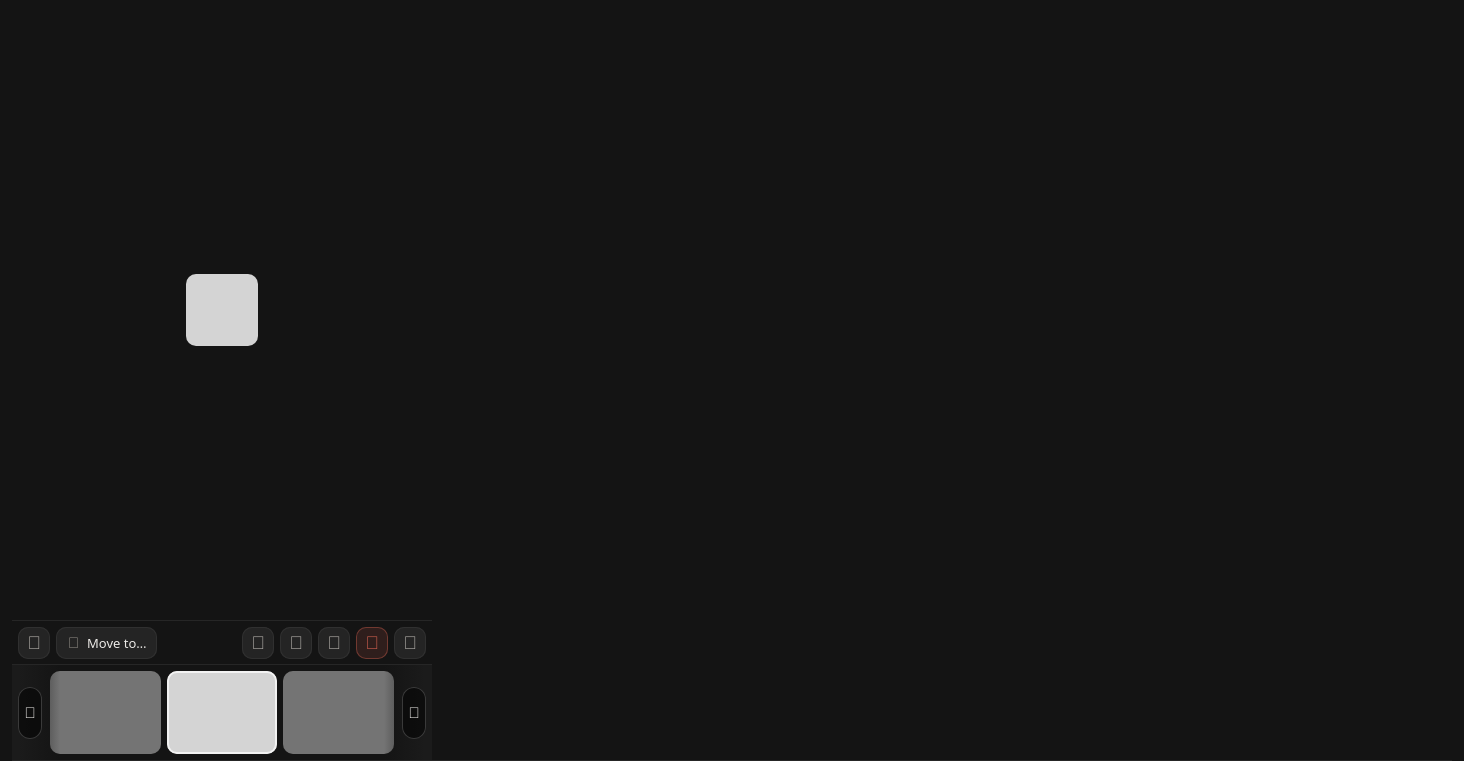
Test: Rename in the ⋯ opens the details with the name as a field, its stem selected
Step 1. Click the button named "More" → (410, 642), box [394, 626, 426, 658]
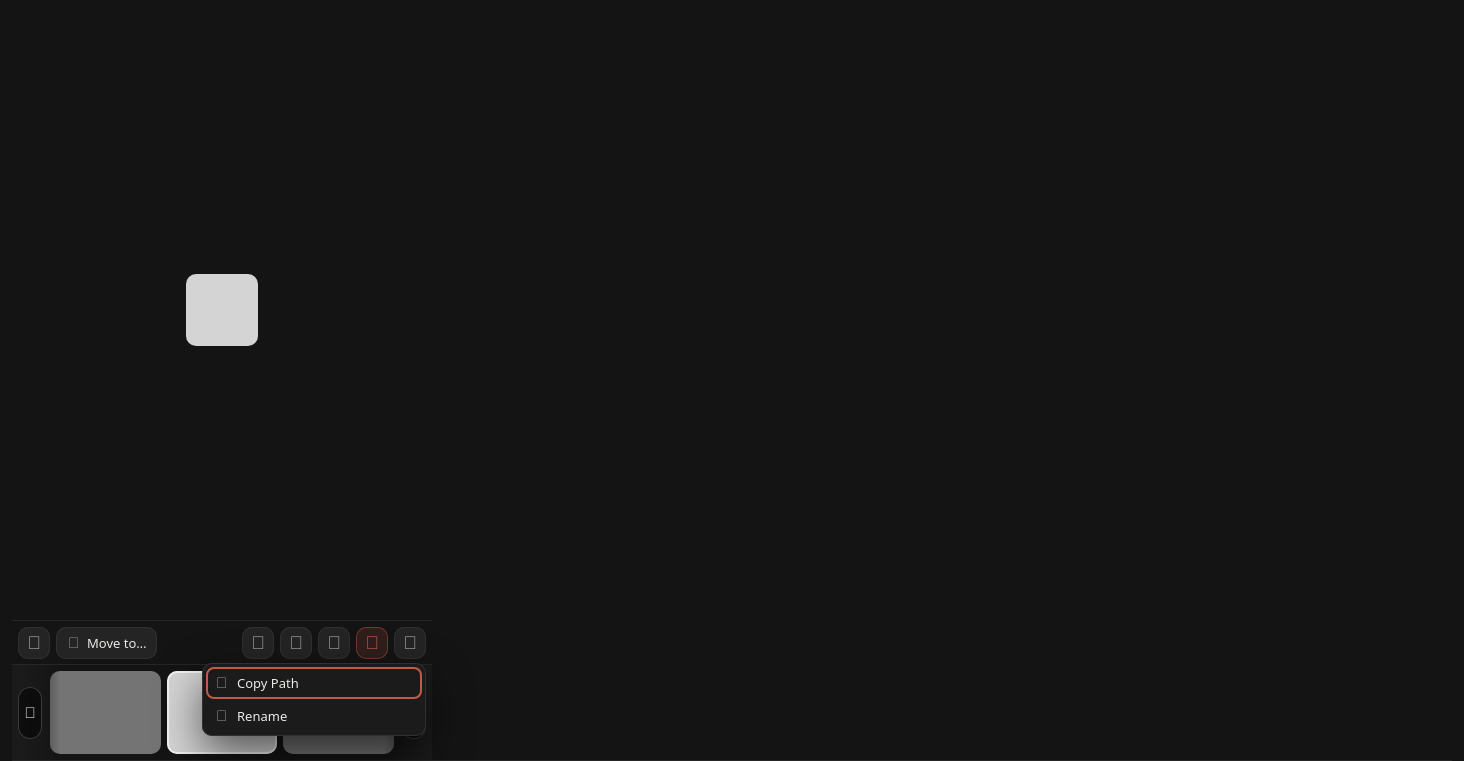
Step 2. Click the menu item " Rename" → (314, 716), box [206, 700, 422, 732]
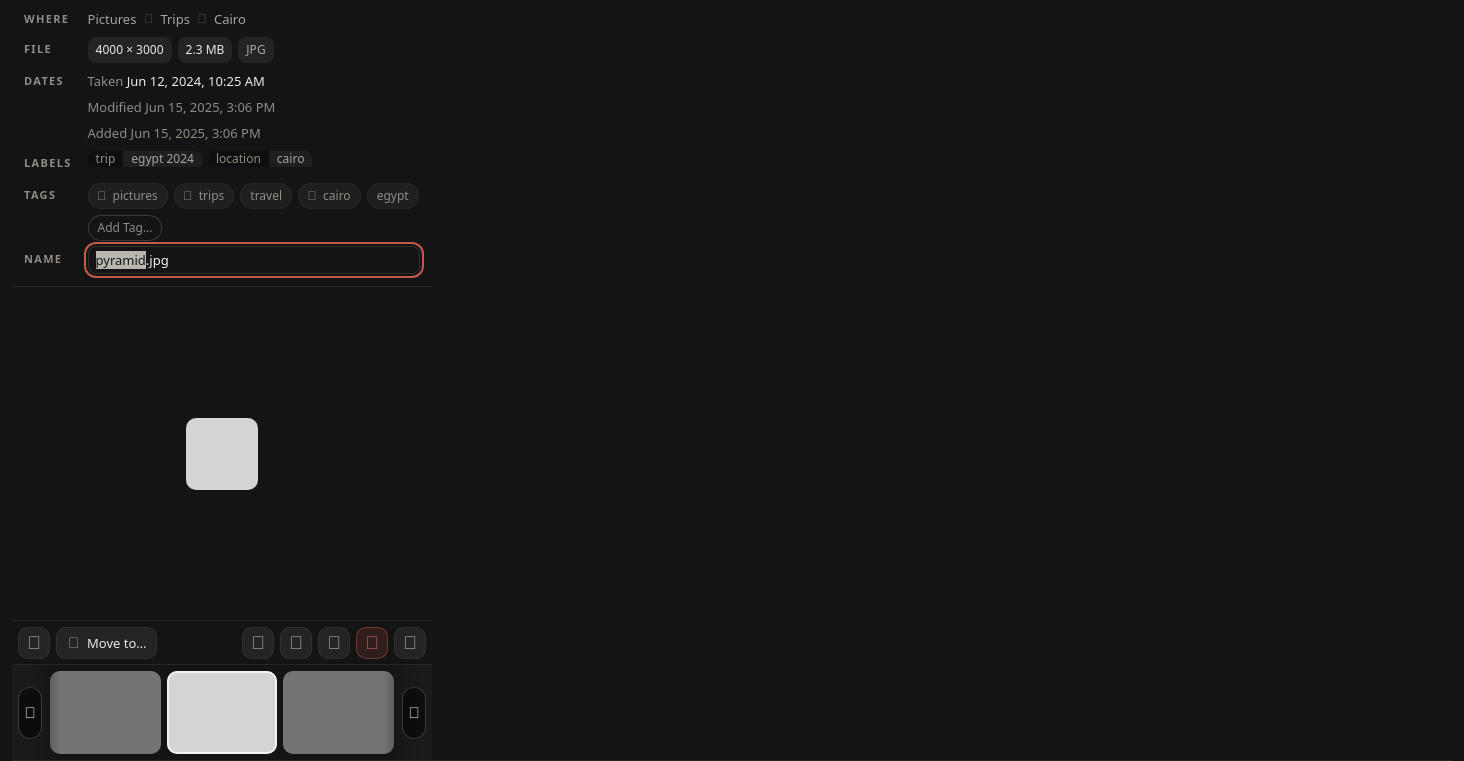
Step 3. Type keys "giza{Enter}"
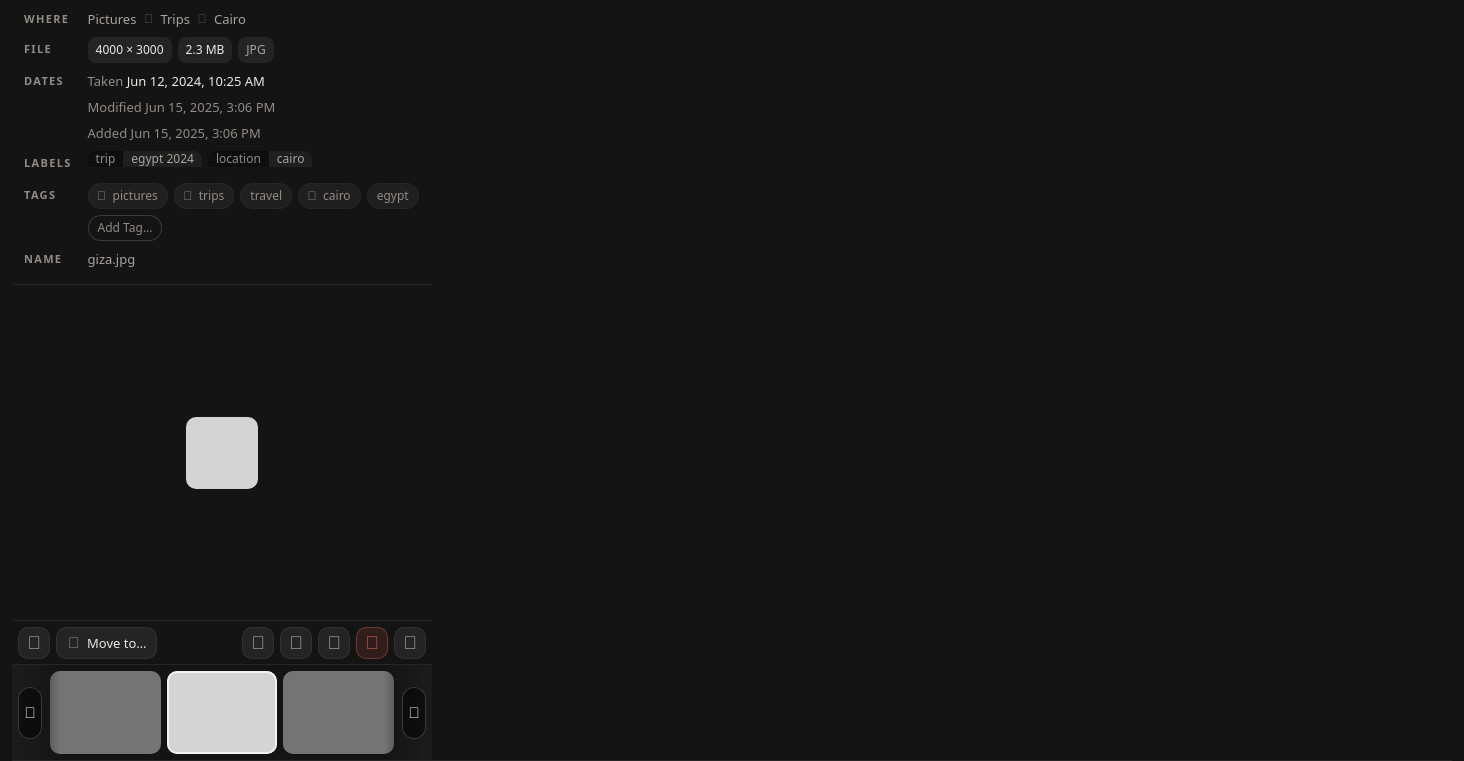
Expected: the button "giza.jpg" is shown, [88, 246, 156, 272]
